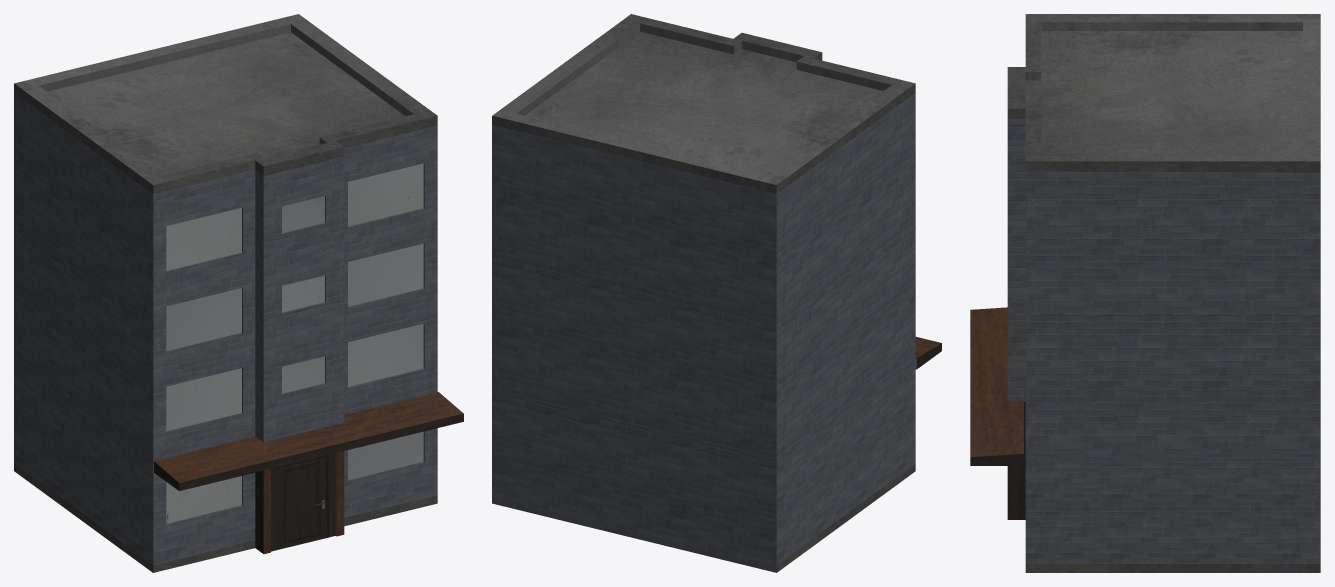
The model's file is BSBrickBuildingWoodenDoor.fbx.
3 renders of one model, left to right at view 1: azimuth 30°, elevation 25°; view 2: azimuth 150°, elevation 25°; view 3: azimuth 270°, elevation 25°, orthographic. The views are drawn at different scales.
Parts seen in each view (by area): view 1: Building Sky_small_color01; view 2: Building Sky_small_color01; view 3: Building Sky_small_color01.
Part boxes in pixels (bbox=[...]): Building Sky_small_color01: bbox=[14, 14, 463, 572]; Building Sky_small_color01: bbox=[492, 14, 941, 572]; Building Sky_small_color01: bbox=[970, 14, 1320, 572].
Bounding box in the file's own units: 1300 × 1693 × 1307.
1 material, 1 textured.
